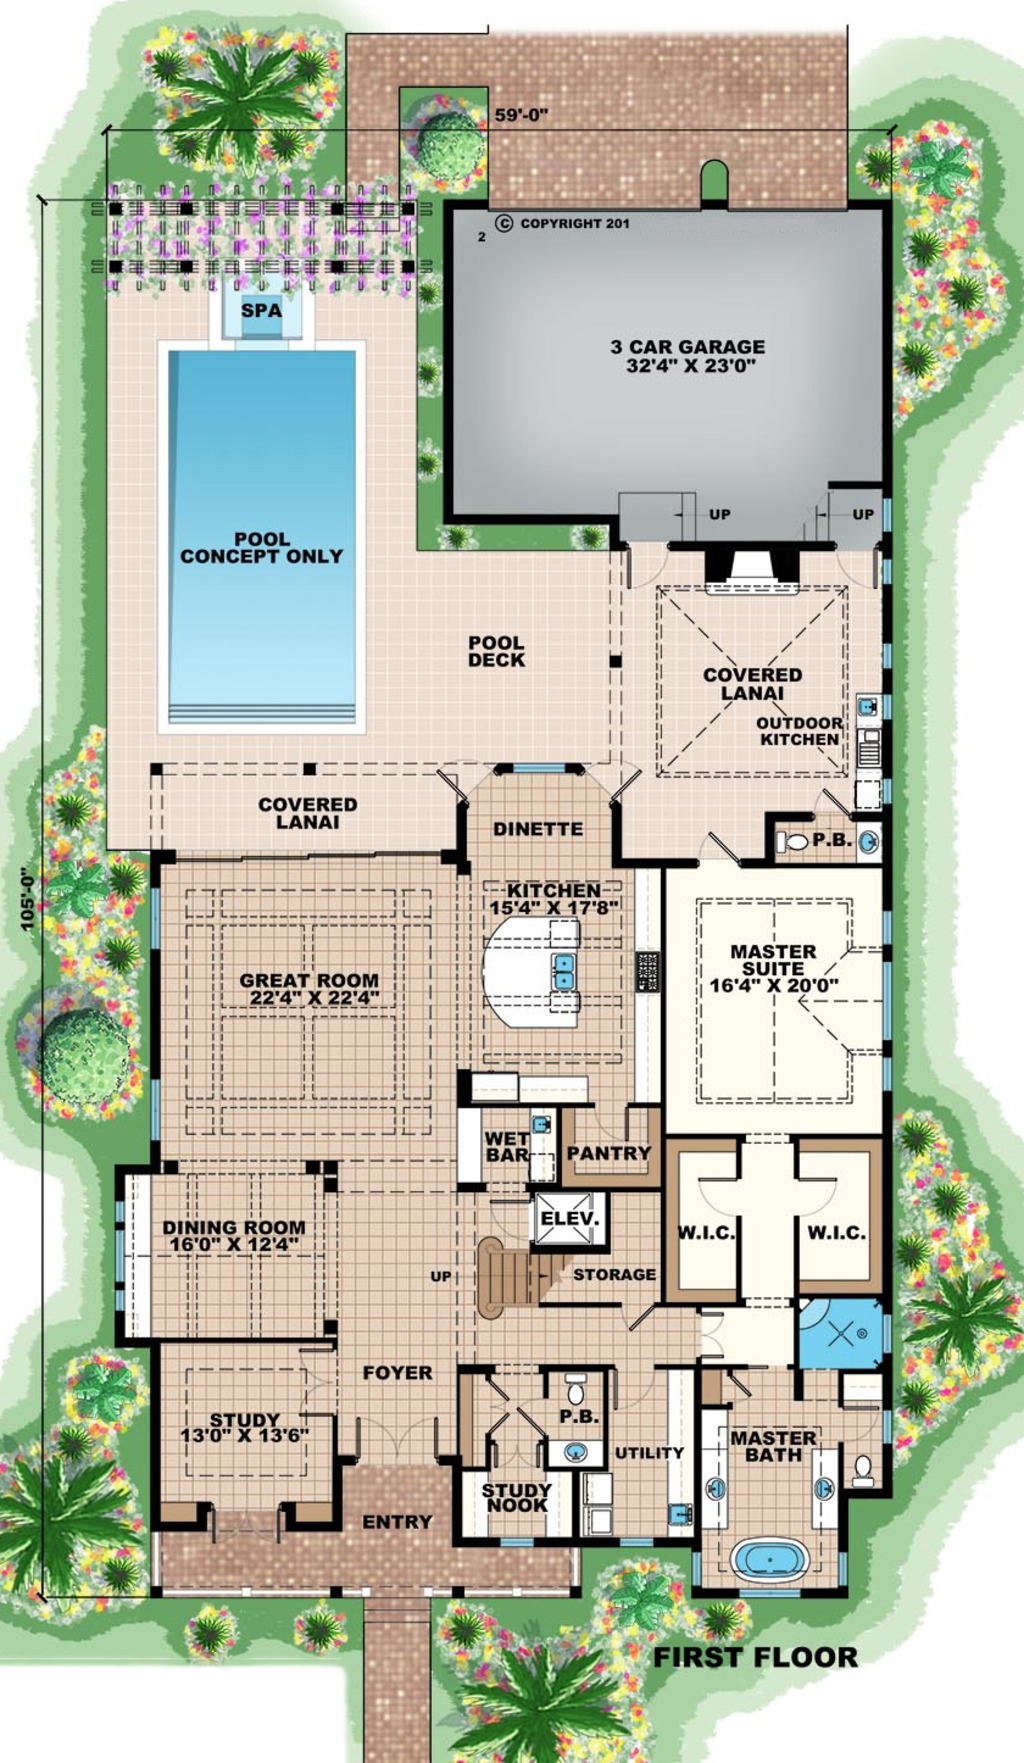door: (798, 1176, 846, 1223), (620, 540, 663, 588), (699, 1170, 740, 1214)
kitchen_bar: (484, 913, 581, 1032)
tub: (724, 1532, 809, 1589)
windows: (108, 1187, 137, 1315)
